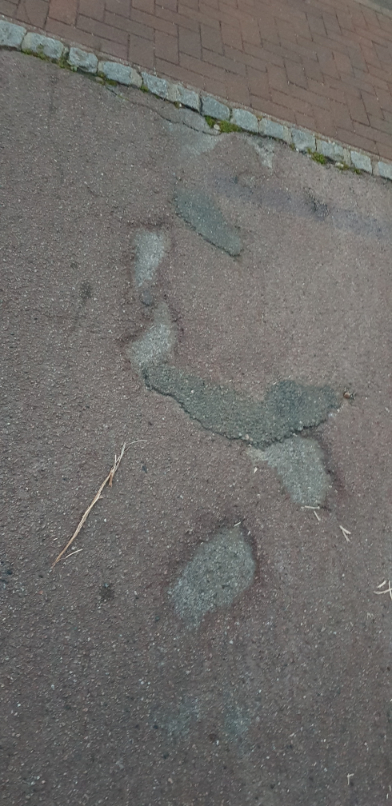pothole: (157, 506, 262, 630), (245, 430, 346, 513), (117, 297, 182, 373), (118, 217, 175, 294)
